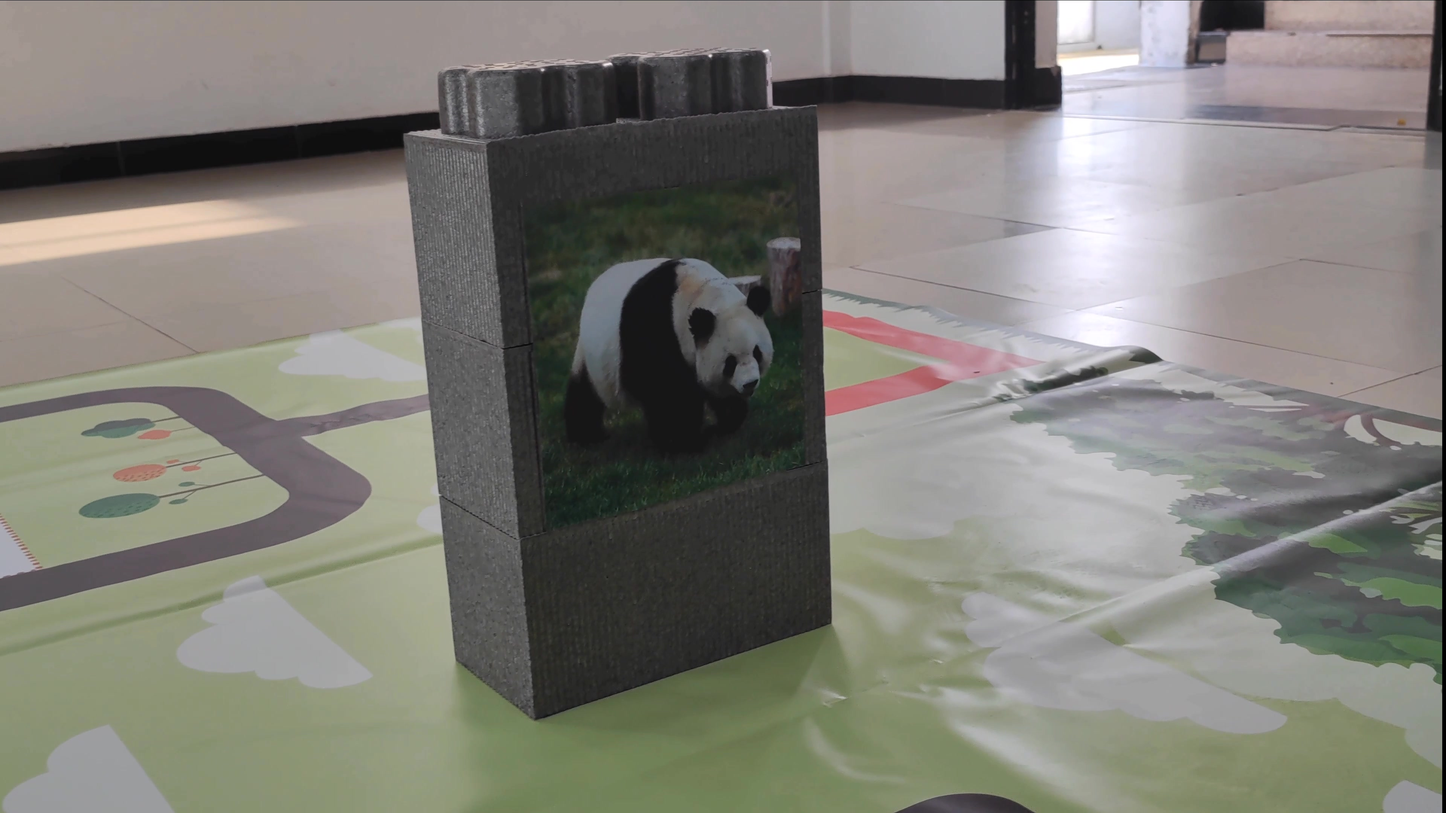panda: (500, 198, 775, 441)
